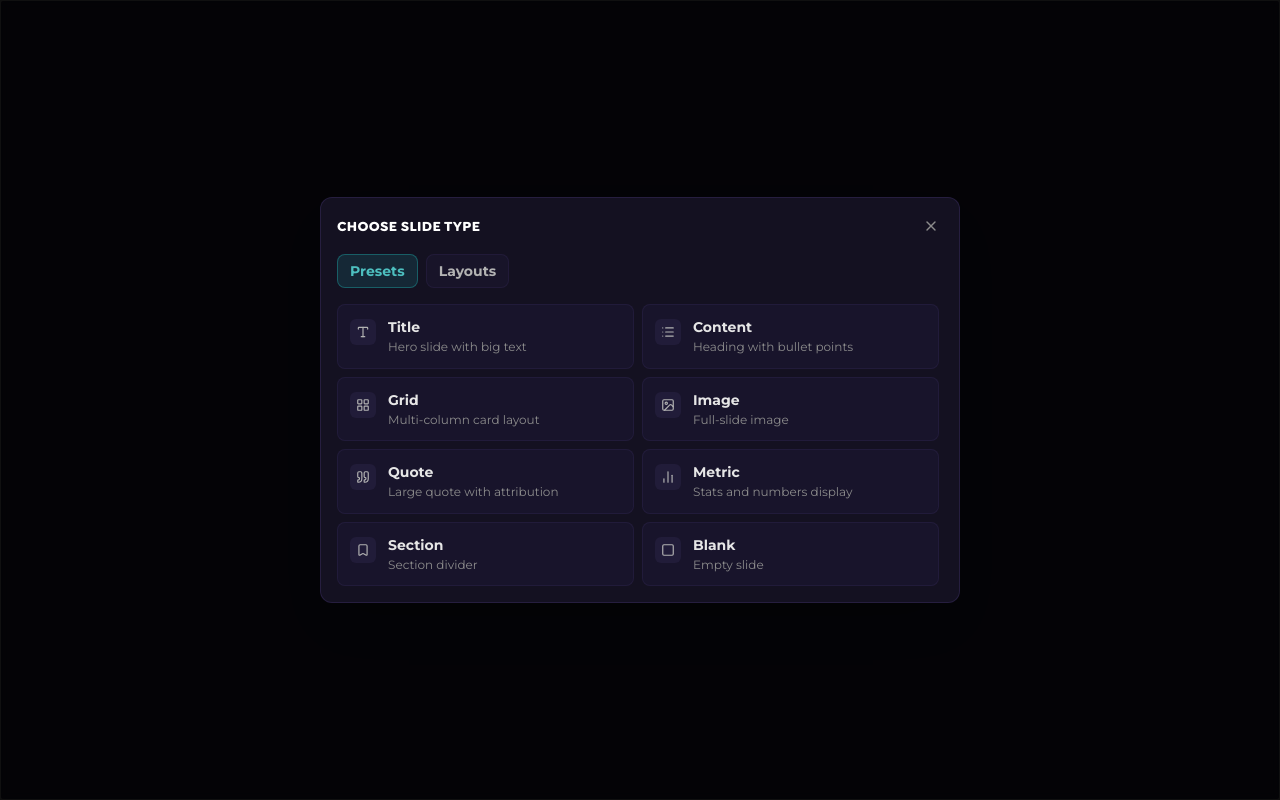
Test case: SlideTypePickerModal › renders both preset and layout tabs
Check: the tab "Presets" is shown, box [337, 254, 418, 288]
Check: the text "Title" is shown, box [388, 318, 420, 336]
Click the tab "Layouts".
click(467, 271)  # box [426, 254, 509, 288]
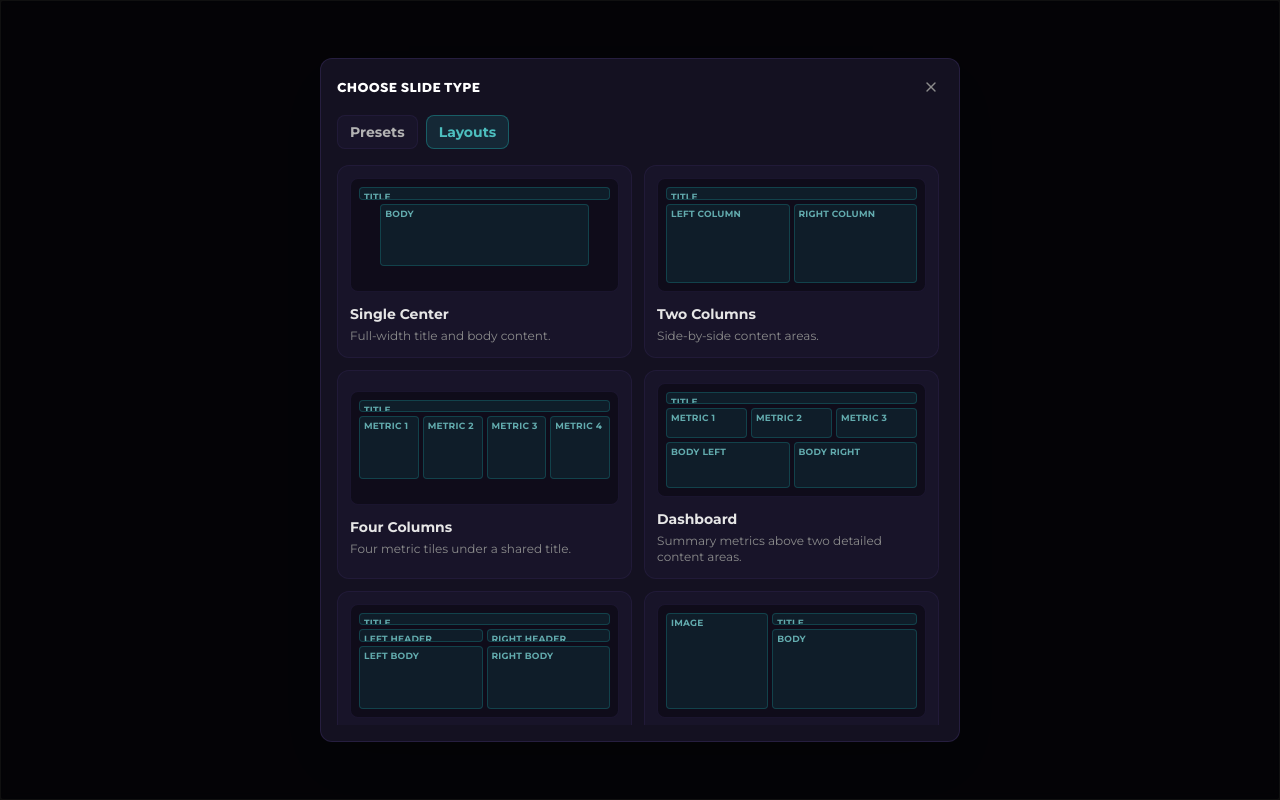
Check: the text "Two Columns" is shown, box [657, 305, 756, 323]
Check: the text "Side-by-side content areas." is shown, box [657, 328, 819, 343]
